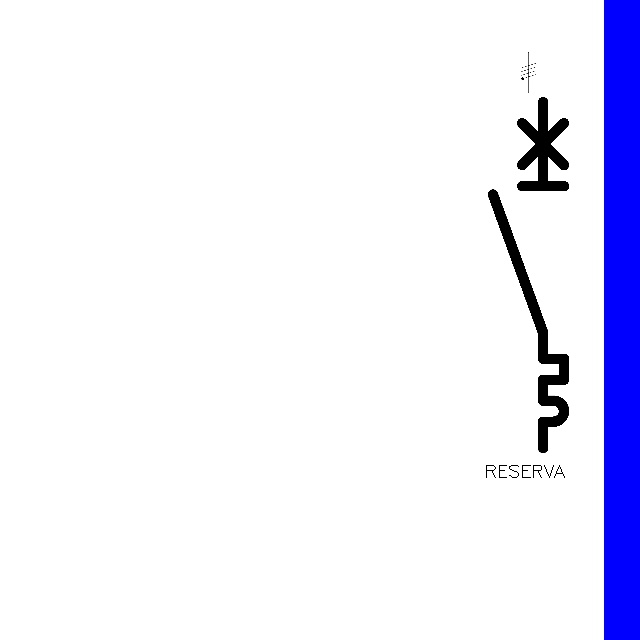interruptor_termomagnetico: (484, 93, 573, 456)
